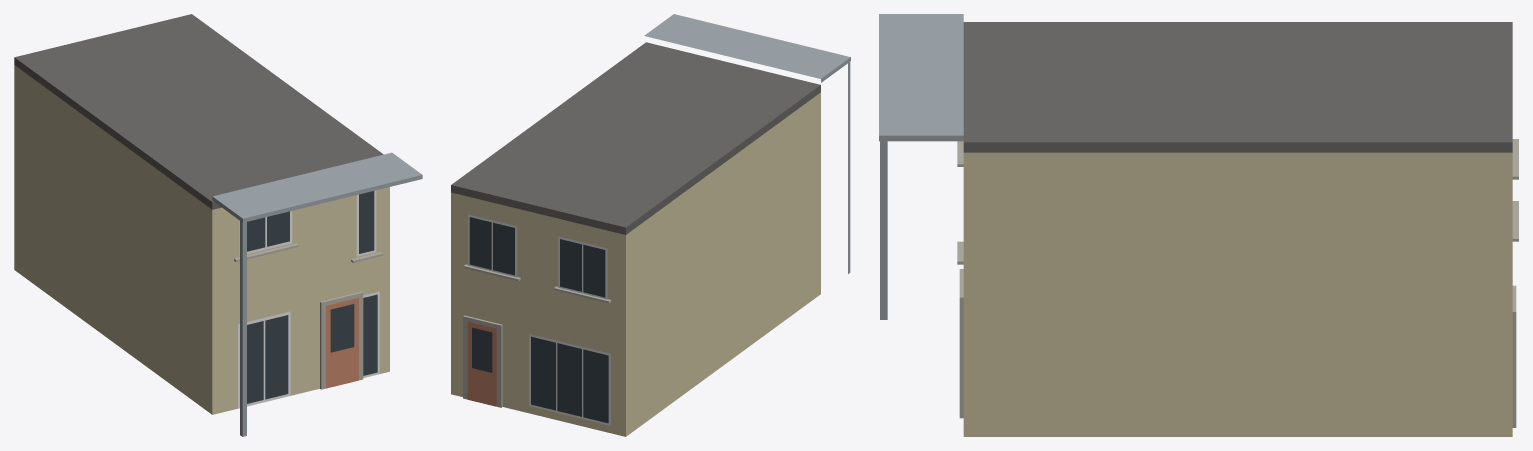
The model's file is zo-gk-pergola__yellow__2__flat__long__solid.glb.
3 views of the same model, side by side, from view 1: azimuth 30°, elevation 25°; view 2: azimuth 150°, elevation 25°; view 3: azimuth 270°, elevation 25° (orthographic). The views are drawn at different scales.
Visible parts, largest first — view 1: zo-gk-pergola__yellow__2__flat__long__solid; view 2: zo-gk-pergola__yellow__2__flat__long__solid; view 3: zo-gk-pergola__yellow__2__flat__long__solid.
Boxes of the visible parts, left/top/right/bottom form: zo-gk-pergola__yellow__2__flat__long__solid: left=14, top=14, right=422, bottom=436; zo-gk-pergola__yellow__2__flat__long__solid: left=451, top=14, right=850, bottom=436; zo-gk-pergola__yellow__2__flat__long__solid: left=879, top=14, right=1518, bottom=436.
Size of the model in its own units: 5.45 by 6.33 by 12.12.
